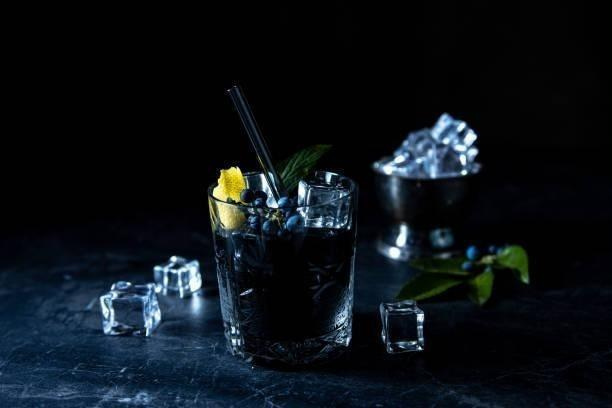glass-normal: (206, 167, 360, 372)
